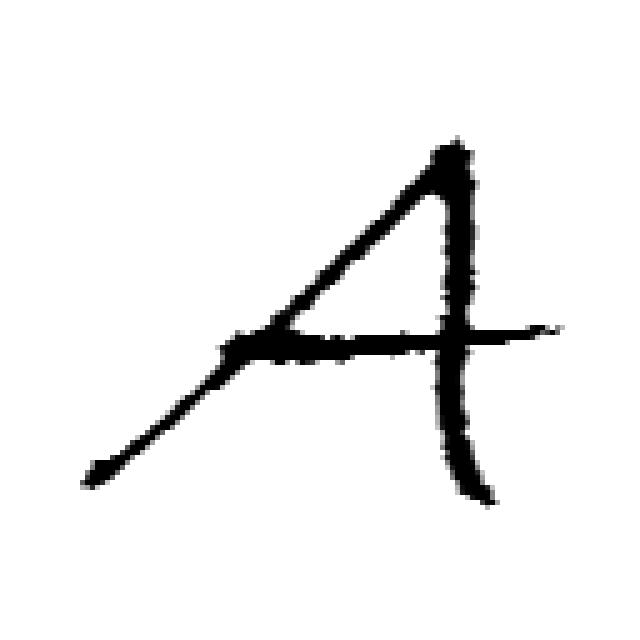A: (87, 134, 567, 506)
